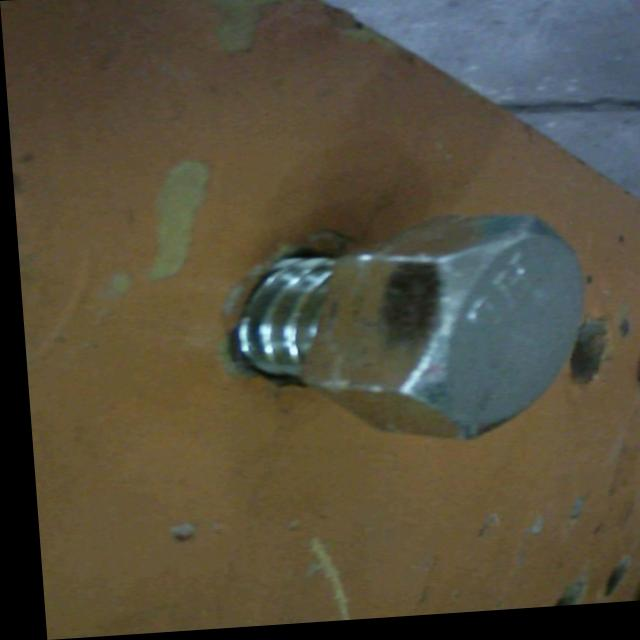Loose bolt: (215, 213, 588, 458)
Missing bolt: (562, 327, 604, 393), (593, 564, 625, 606), (534, 587, 578, 615), (623, 344, 640, 400)
